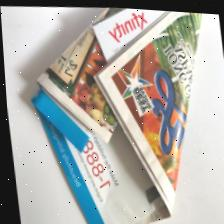paper: (13, 1, 224, 224)
